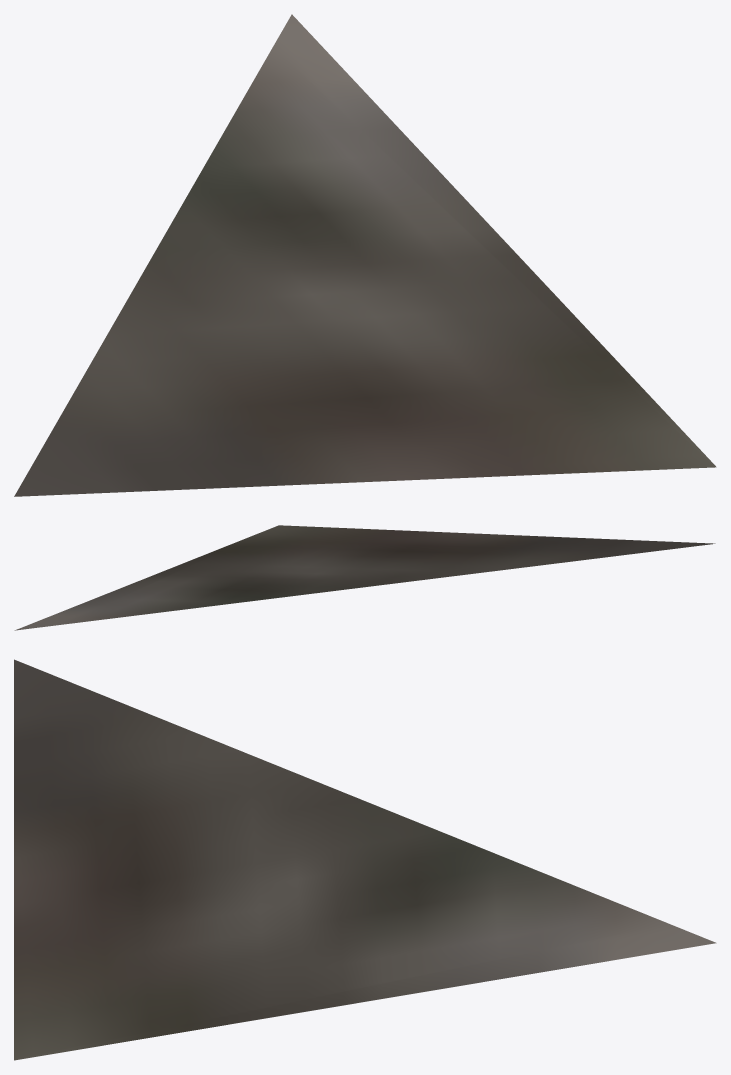
3 renders of one model, top to bottom at view 1: azimuth 30°, elevation 25°; view 2: azimuth 150°, elevation 25°; view 3: azimuth 270°, elevation 25°, orthographic. The views are drawn at different scales.
Bounding box in the file's own units: 0.0555 × 0.0107 × 0.0581.
Materials: 1 (1 with a texture image).
